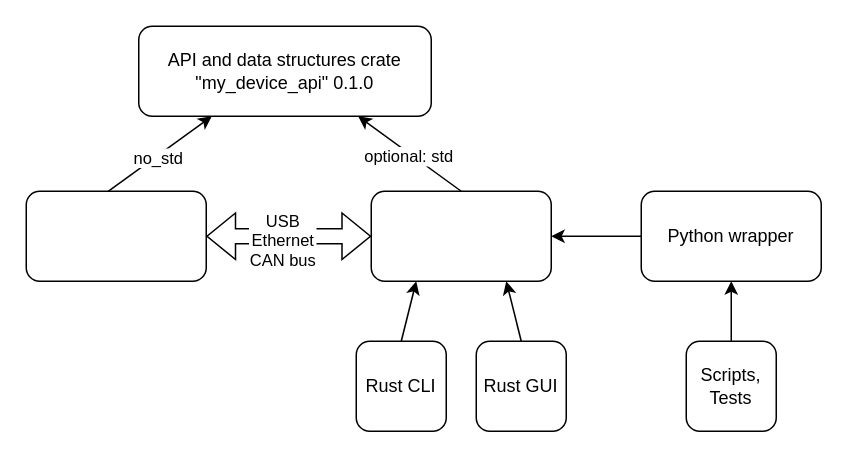
Image size: 848x458. Some labels were removed from this diagram. Each missing label, with the box of its shape:
MCU firmware: (25, 190, 206, 281)
Rust driver: (370, 190, 551, 281)
